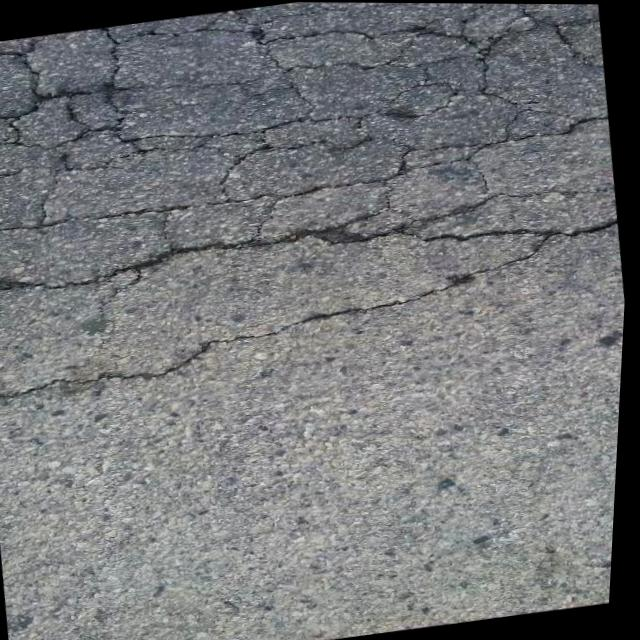Crack: (0, 0, 636, 414)
